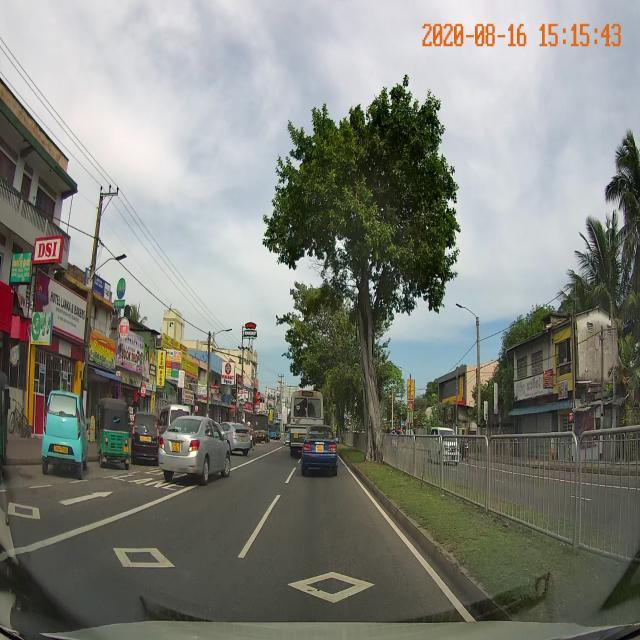diamond: (204, 528, 475, 614)
